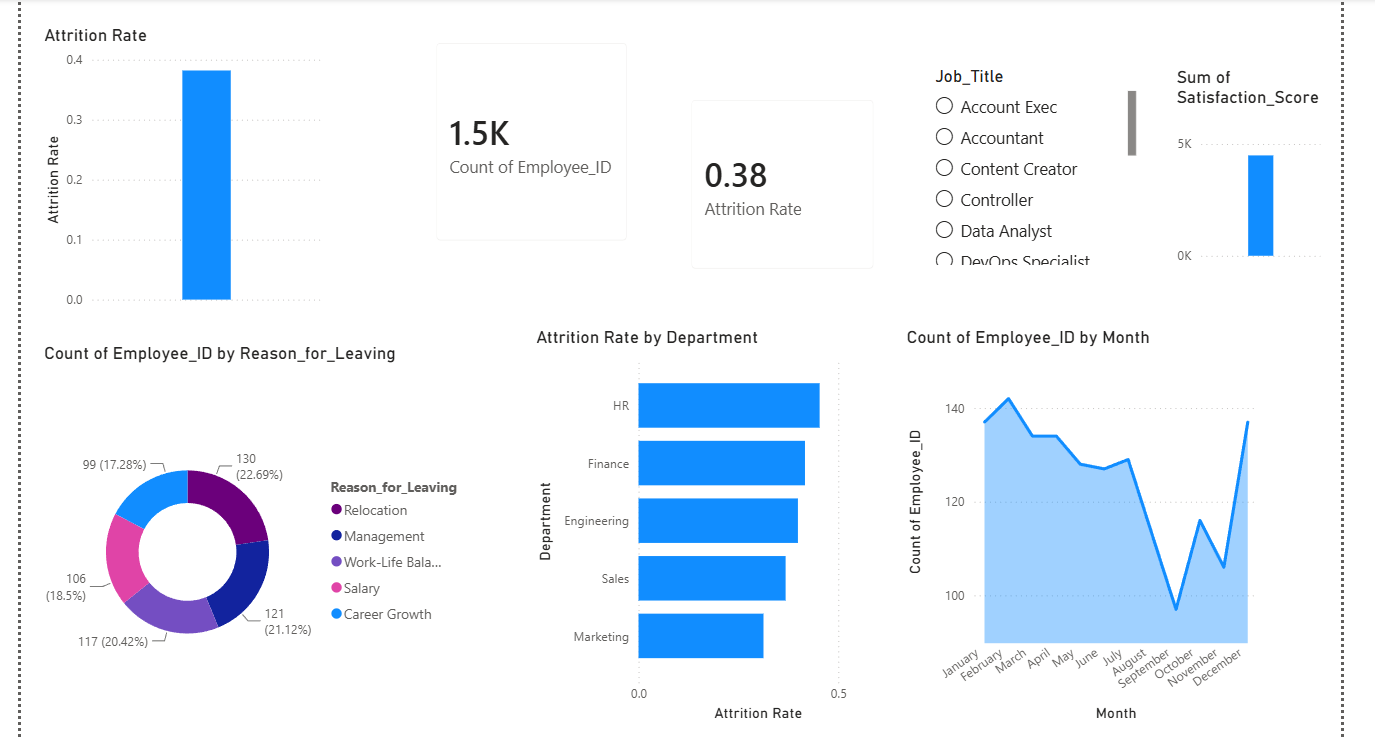

The page's visual inventory and layout, read from the dashboard file:
{"tool":"powerbi","page":{"name":"Page 1","canvas":[1280,720],"ordinal":0},"visuals":[{"type":"clusteredColumnChart","fields":{"Y":["hr_analytics_data.Attrition Rate"]},"box":[17.8,25.9,280.1,280.1],"z":0},{"type":"cardVisual","fields":{"Data":["Count(hr_analytics_data.Employee_ID)"]},"box":[385.5,26.5,219.2,226.8],"z":1000},{"type":"cardVisual","fields":{"Data":["hr_analytics_data.Attrition Rate"]},"box":[633.1,81.3,211.7,198.4],"z":2000},{"type":"donutChart","fields":{"Category":["hr_analytics_data.Reason_for_Leaving"],"Y":["CountNonNull(hr_analytics_data.Employee_ID)"]},"box":[17,334.5,419.5,385.5],"z":3000},{"type":"clusteredBarChart","fields":{"Category":["hr_analytics_data.Department"],"Y":["hr_analytics_data.Attrition Rate"]},"box":[495.1,319.4,349.6,387.4],"z":4000},{"type":"areaChart","fields":{"Category":["hr_analytics_data.Hire_Date.Variation.Date Hierarchy.Month"],"Y":["CountNonNull(hr_analytics_data.Employee_ID)"]},"box":[855,319,350,387],"z":5000},{"type":"listSlicer","fields":{"Values":["hr_analytics_data.Job_Title"]},"box":[882.5,66.1,206,198.4],"z":6000},{"type":"clusteredColumnChart","fields":{"Y":["Sum(hr_analytics_data.Satisfaction_Score)"]},"box":[1116,66.6,149.9,196.8],"z":7000}]}

Visuals, with their boxes on the page's 1280x720 design canvas (x1, y1, x2, y2). These are canvas units, not pixel positions in the 1375x739 screenshot, which may show the page scaled, cropped or inside an application window:
clusteredColumnChart - hr_analytics_data.Attrition Rate: Rect(18, 26, 298, 306)
cardVisual - Count(hr_analytics_data.Employee_ID): Rect(386, 26, 605, 253)
cardVisual - hr_analytics_data.Attrition Rate: Rect(633, 81, 845, 280)
donutChart - hr_analytics_data.Reason_for_Leaving x CountNonNull(hr_analytics_data.Employee_ID): Rect(17, 334, 436, 720)
clusteredBarChart - hr_analytics_data.Department x hr_analytics_data.Attrition Rate: Rect(495, 319, 845, 707)
areaChart - hr_analytics_data.Hire_Date.Variation.Date Hierarchy.Month x CountNonNull(hr_analytics_data.Employee_ID): Rect(855, 319, 1205, 706)
listSlicer - hr_analytics_data.Job_Title: Rect(882, 66, 1088, 264)
clusteredColumnChart - Sum(hr_analytics_data.Satisfaction_Score): Rect(1116, 67, 1266, 263)
